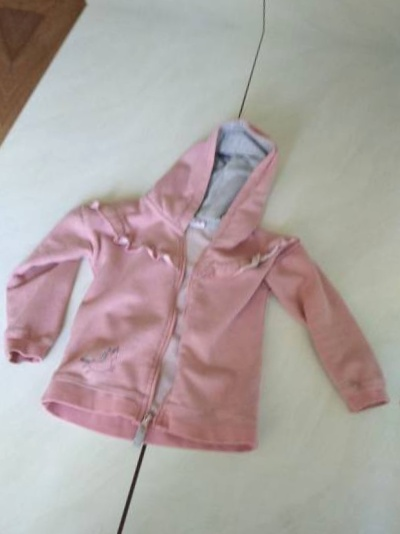Hoodie: (0, 60, 400, 476), (0, 0, 11, 415), (400, 126, 400, 534)
